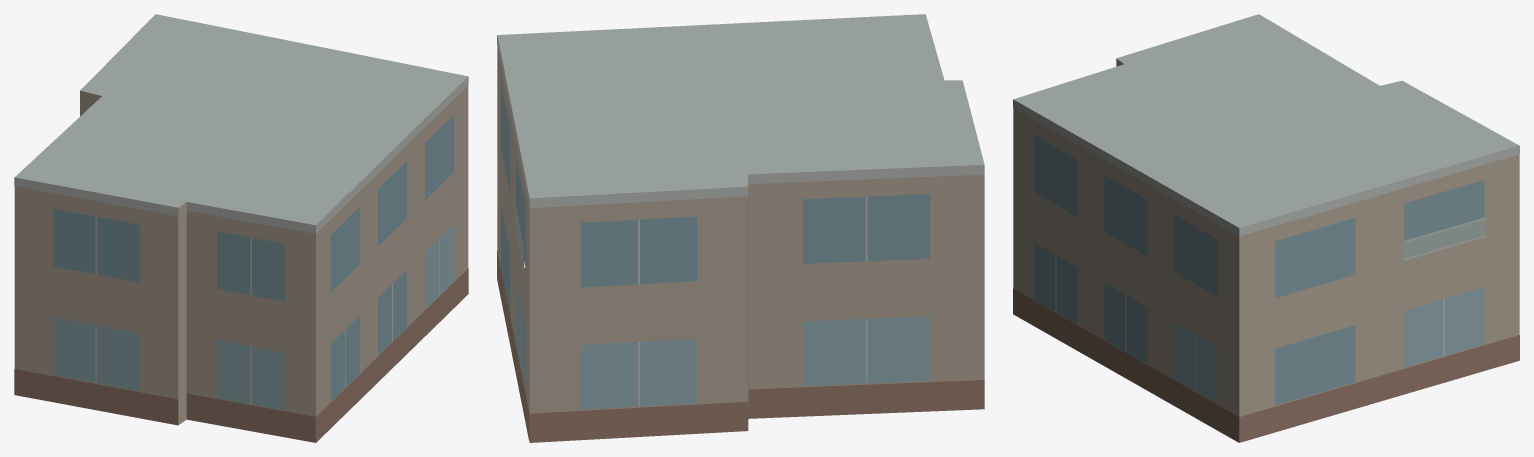
Rendered from survey-upis-32908024.glb.
3 renders of one model, left to right at view 1: azimuth 30°, elevation 25°; view 2: azimuth 150°, elevation 25°; view 3: azimuth 270°, elevation 25°, orthographic. The views are drawn at different scales.
Visible parts, largest first — view 1: survey-upis-32908024.tmp; view 2: survey-upis-32908024.tmp; view 3: survey-upis-32908024.tmp.
Boxes of the visible parts, x1,y1,x2,y2 form: survey-upis-32908024.tmp: [14, 14, 468, 442]; survey-upis-32908024.tmp: [497, 14, 984, 442]; survey-upis-32908024.tmp: [1013, 14, 1519, 442].
Size of the model in its own units: 13.03 by 6.1 by 13.04.
